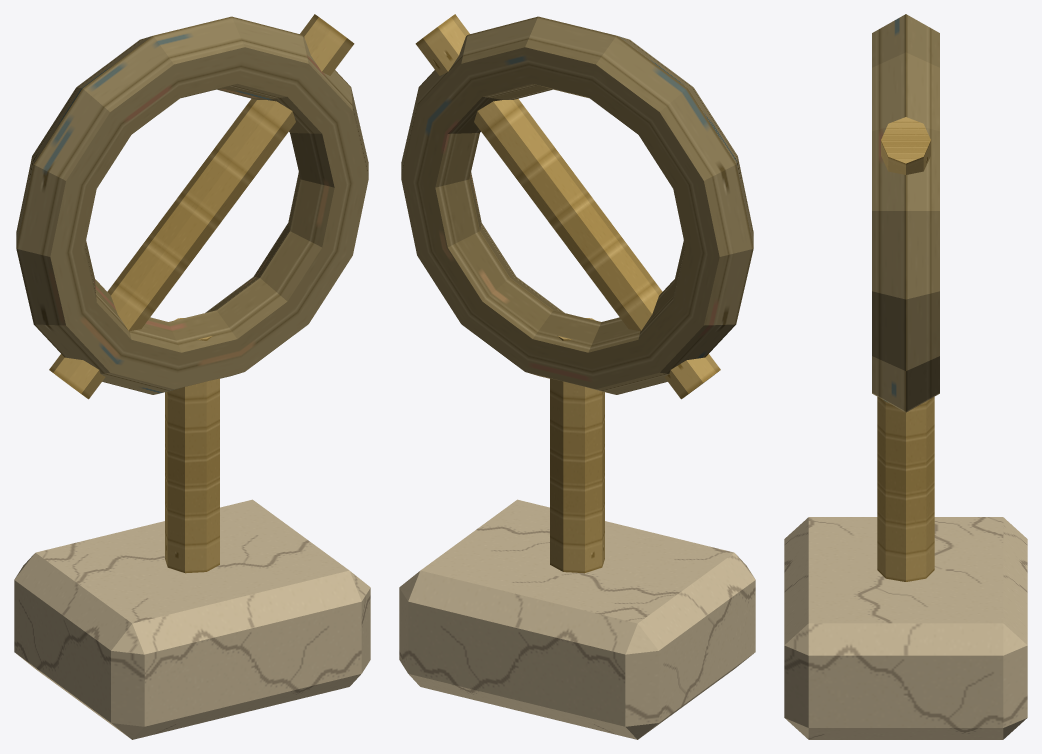
File: MD_128_OfficeSculpture.fbx
3 renders of one model, left to right at view 1: azimuth 30°, elevation 25°; view 2: azimuth 150°, elevation 25°; view 3: azimuth 270°, elevation 25°, orthographic.
Visible parts, largest first — view 1: MD_128_OfficeSculpture_abstract_loop, MD_128_OfficeSculpture_stone_plinth, MD_128_OfficeSculpture_diagonal, MD_128_OfficeSculpture_sculpture_stem; view 2: MD_128_OfficeSculpture_abstract_loop, MD_128_OfficeSculpture_stone_plinth, MD_128_OfficeSculpture_diagonal, MD_128_OfficeSculpture_sculpture_stem; view 3: MD_128_OfficeSculpture_stone_plinth, MD_128_OfficeSculpture_abstract_loop, MD_128_OfficeSculpture_sculpture_stem, MD_128_OfficeSculpture_diagonal.
Boxes of the visible parts, box(x1,y1,x2,y2) form: MD_128_OfficeSculpture_abstract_loop: box(16, 16, 368, 394); MD_128_OfficeSculpture_stone_plinth: box(14, 499, 370, 739); MD_128_OfficeSculpture_diagonal: box(49, 14, 354, 399); MD_128_OfficeSculpture_sculpture_stem: box(165, 318, 219, 573); MD_128_OfficeSculpture_abstract_loop: box(401, 16, 753, 394); MD_128_OfficeSculpture_stone_plinth: box(399, 499, 755, 739); MD_128_OfficeSculpture_diagonal: box(415, 14, 720, 399); MD_128_OfficeSculpture_sculpture_stem: box(550, 318, 604, 573); MD_128_OfficeSculpture_stone_plinth: box(784, 517, 1027, 739); MD_128_OfficeSculpture_abstract_loop: box(872, 14, 939, 412); MD_128_OfficeSculpture_sculpture_stem: box(877, 397, 934, 581); MD_128_OfficeSculpture_diagonal: box(881, 117, 930, 174).
Bounding box in the file's own units: 0.57 × 1.01 × 0.34.
Materials: 3 (3 with a texture image).
